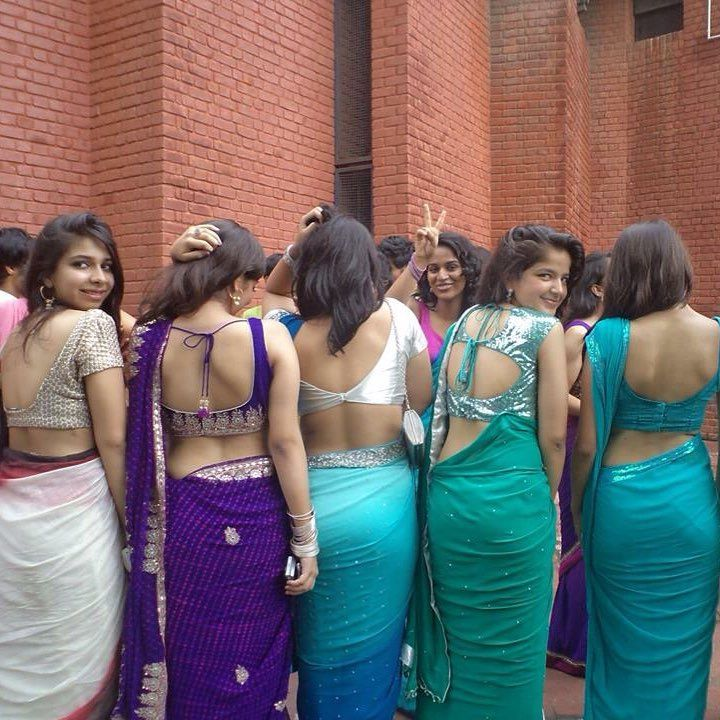person: (128, 210, 295, 718), (438, 232, 579, 720), (5, 209, 126, 714), (592, 217, 711, 719), (294, 211, 414, 706), (402, 206, 479, 307)
